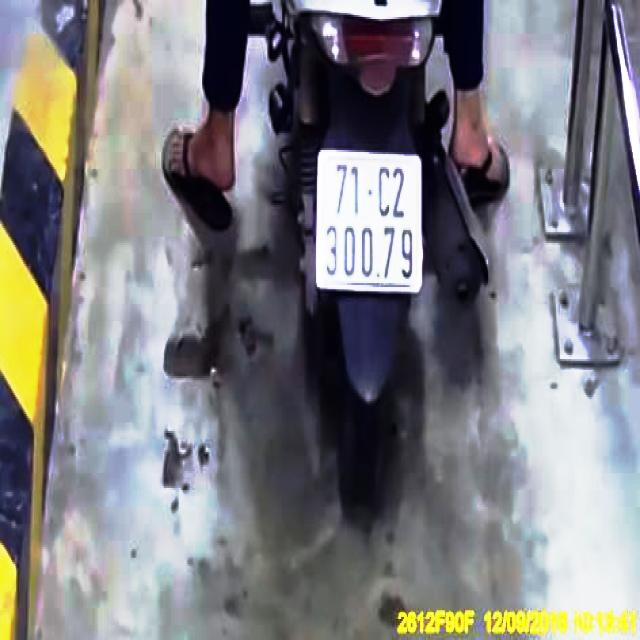license_plate: (318, 146, 420, 290)
